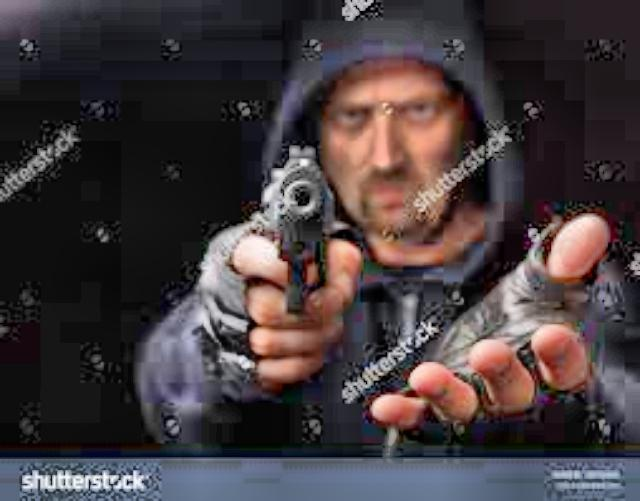pistol: (262, 124, 350, 314)
